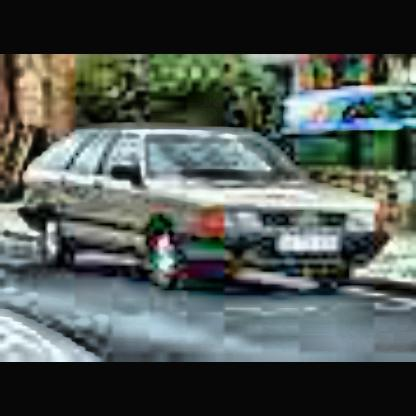Audi 100 Wagon 1994: (20, 124, 407, 306)
